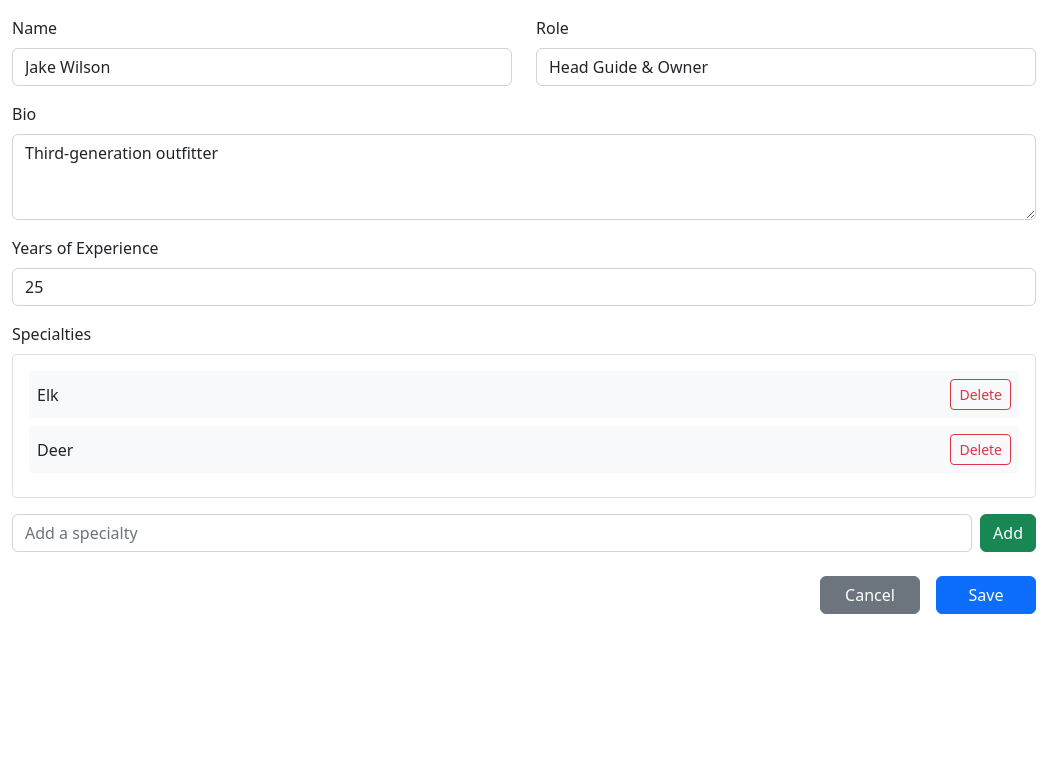
GuideForm › should delete specialty when delete button clicked
The width and height of the screenshot is (1048, 768).
What coordinates should you click on to do the following:
click the button "Delete" in the row of "Elk"
I would click on:
 (981, 394)
Its box is x1=950 y1=379 x2=1011 y2=410.
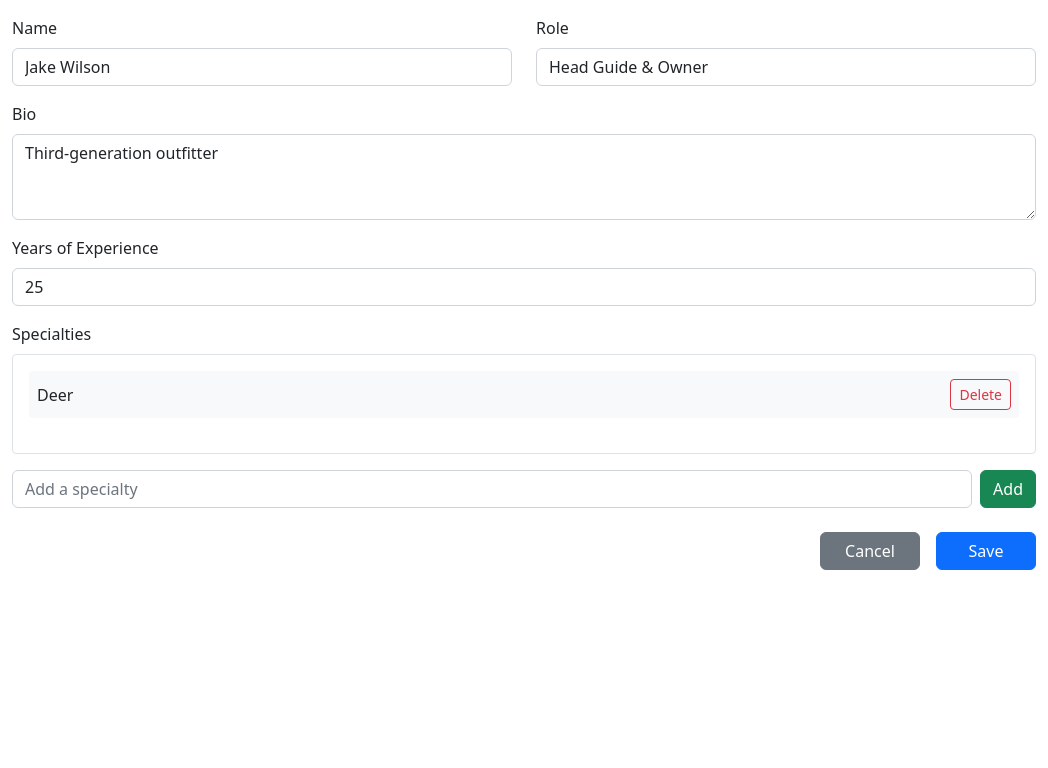
Check: the text "Elk" is gone
Check: the text "Deer" is shown, box x1=37 y1=384 x2=73 y2=406
